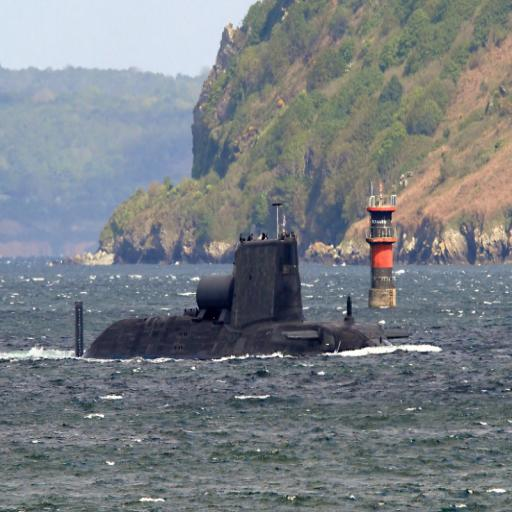submarine: (73, 232, 416, 364)
